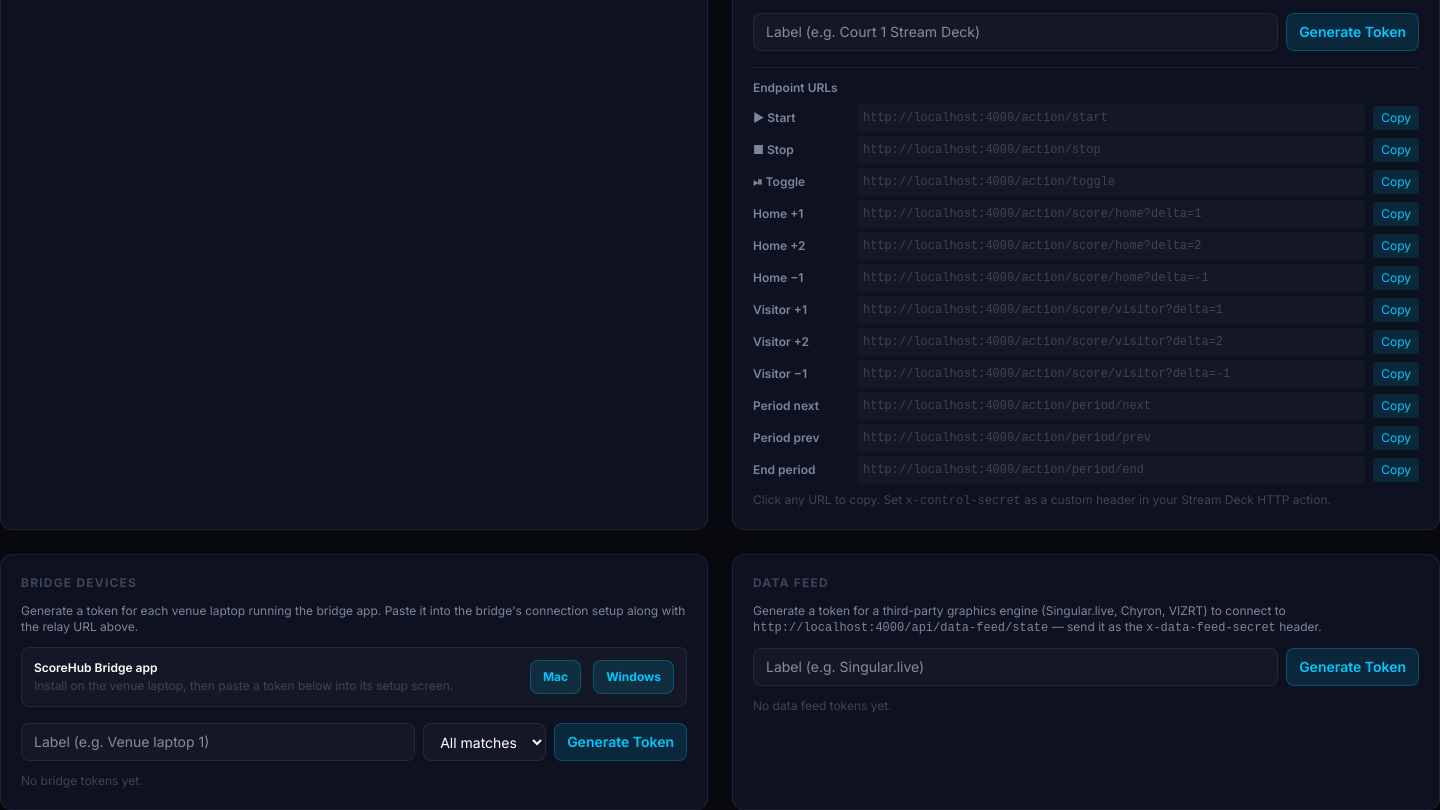
SettingsTab › renders the Data Feed token form and generates a token when the org has the add-on
This screenshot has width=1440, height=810.
(page scrolled)
expect the text "No data feed tokens yet." is shown: met, box [753,698,892,713]
Type "Singular.live" into the field with placeholder "Label (e.g. Singular.live)". click: x=1016, y=667
box: [753,648,1278,686]
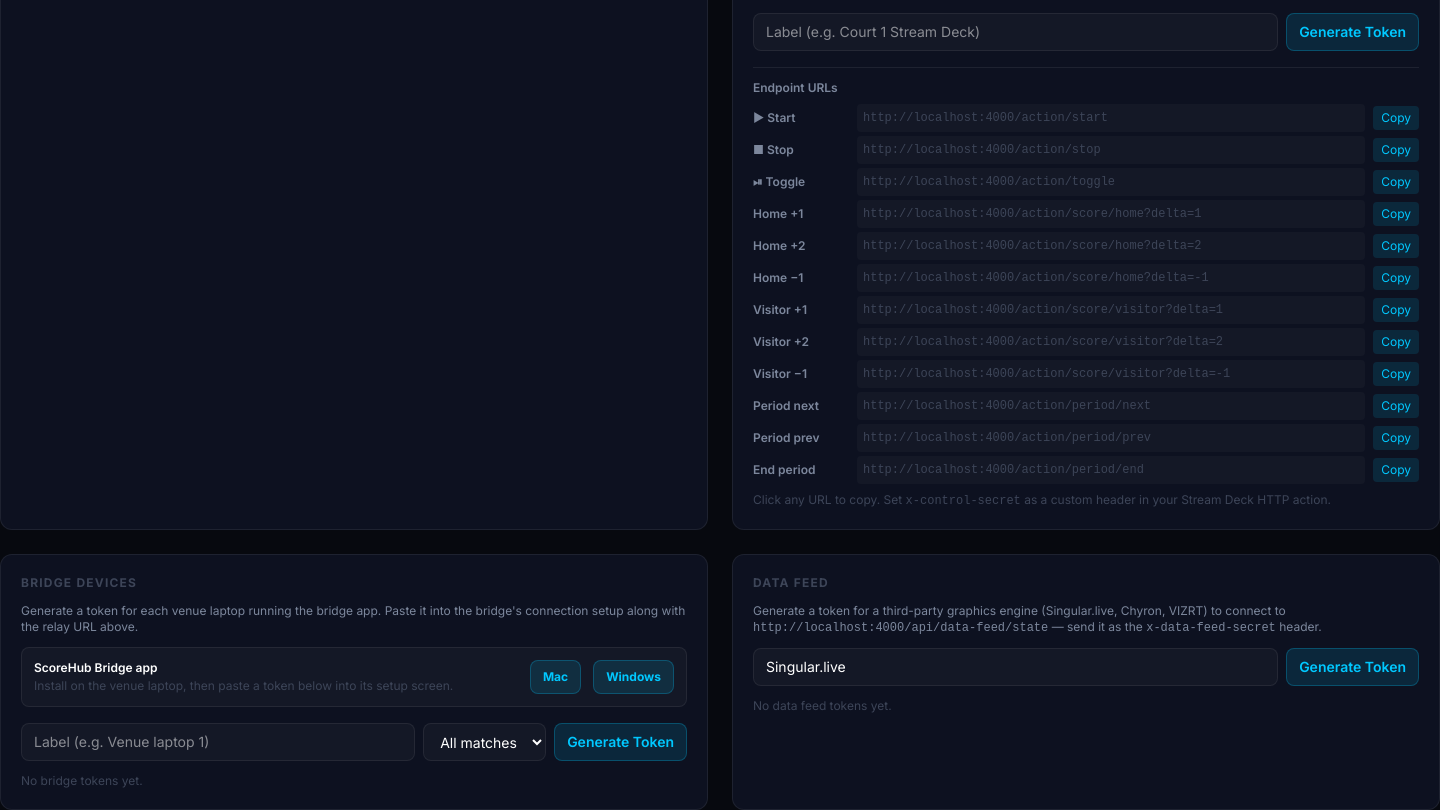
Click the button "Generate Token" below "x-data-feed-secret". click: x=1353, y=667
box: [1286,648,1419,686]
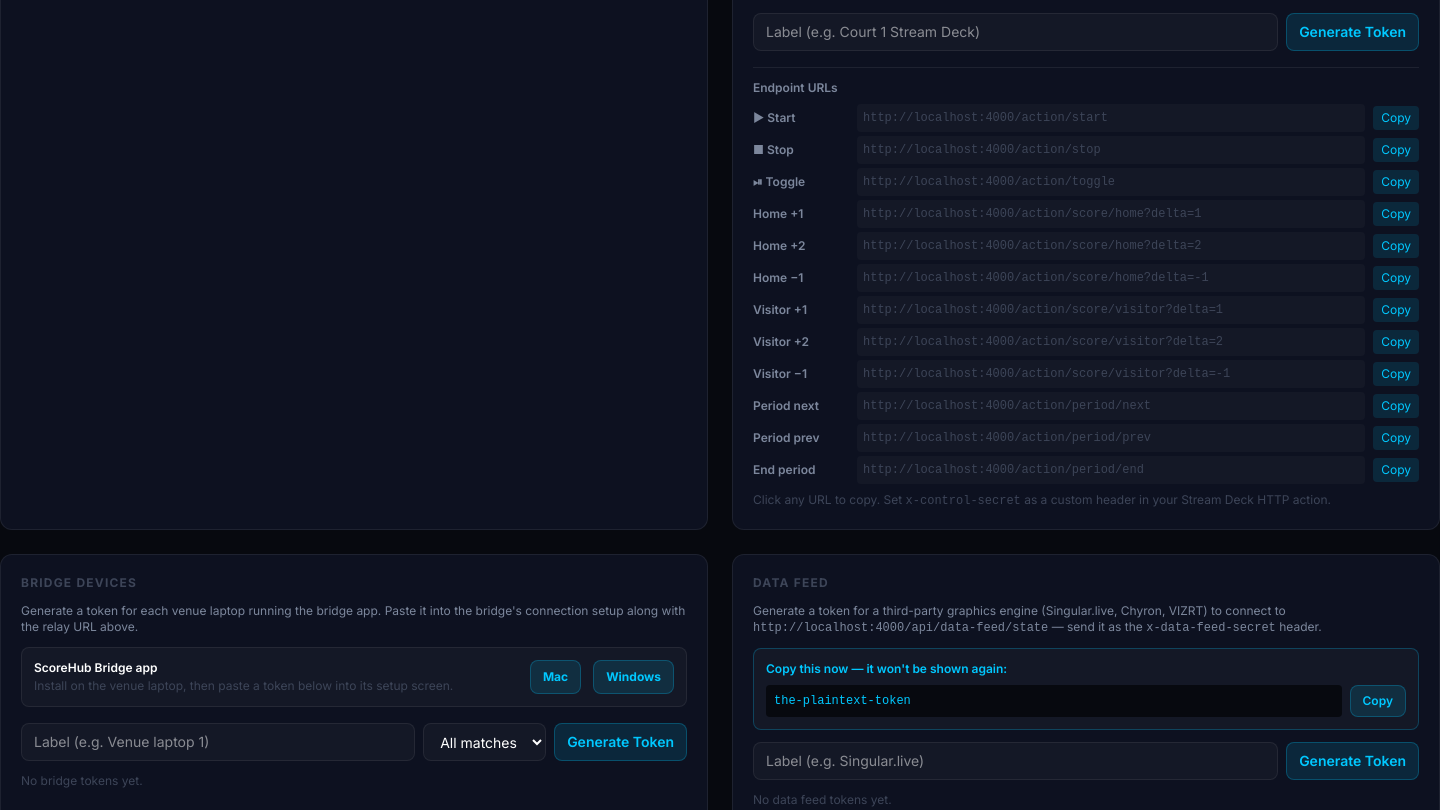
expect the text "the-plaintext-token" is shown: met, box [766,685,1342,717]
